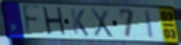7: (117, 8, 137, 40)
F: (21, 4, 42, 39)
H: (41, 5, 68, 38)
I: (144, 9, 156, 41)
K: (69, 7, 90, 37)
X: (89, 7, 115, 39)
